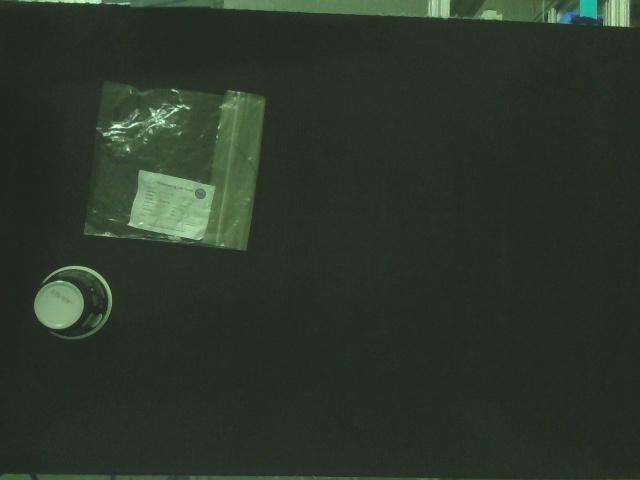plastic: (77, 74, 266, 257), (30, 262, 116, 344)
